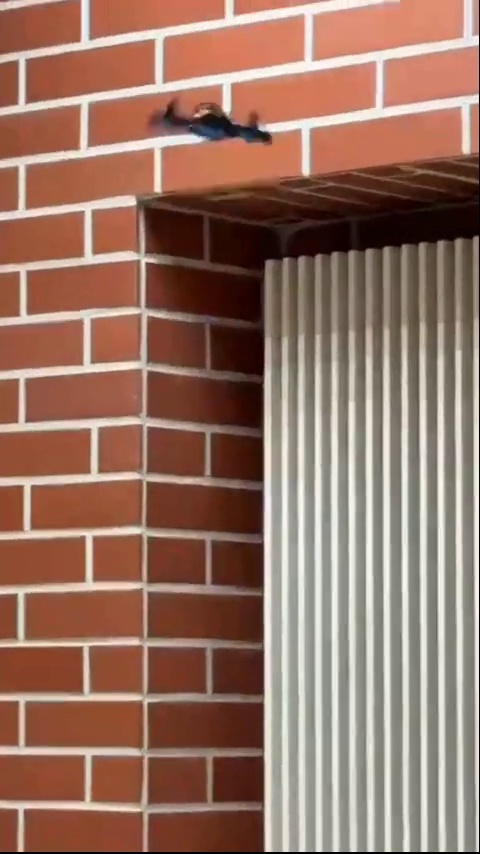drone: (150, 97, 276, 150)
